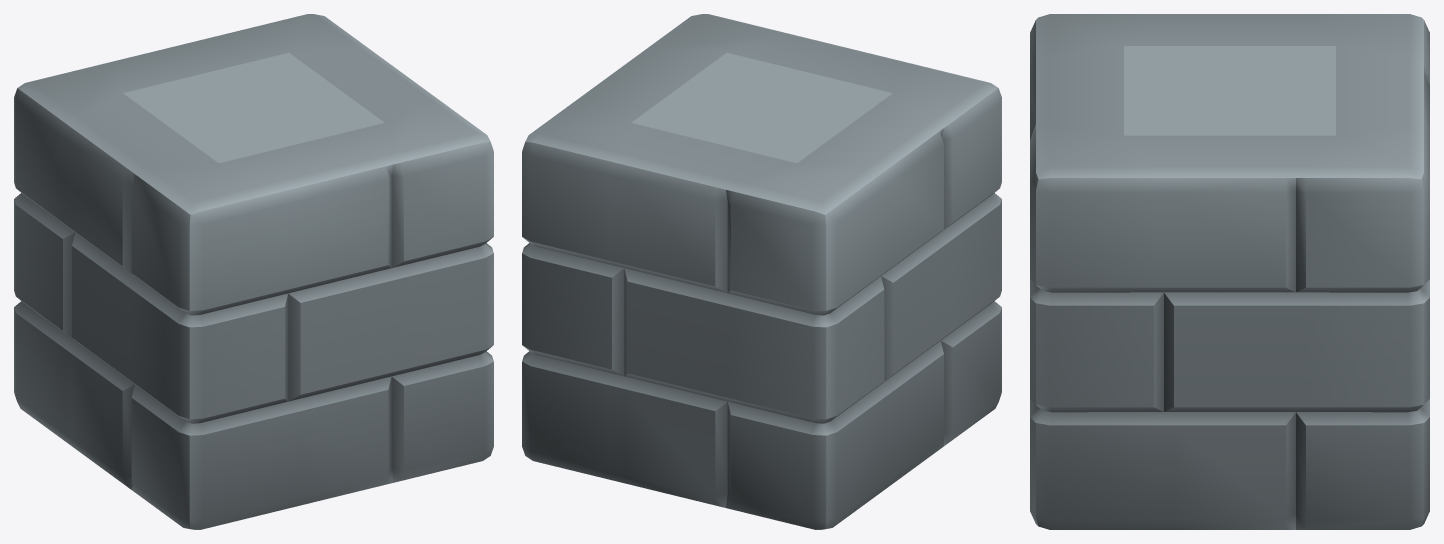
The model's file is bricks_A.glb.
3 renders of one model, left to right at view 1: azimuth 30°, elevation 25°; view 2: azimuth 150°, elevation 25°; view 3: azimuth 270°, elevation 25°, orthographic. The views are drawn at different scales.
Parts seen in each view (by area): view 1: bricks_A; view 2: bricks_A; view 3: bricks_A.
Boxes of the visible parts, box(x1,y1,x2,y2) form: bricks_A: box(14, 14, 493, 529); bricks_A: box(522, 14, 1001, 529); bricks_A: box(1030, 14, 1429, 529).
Bounding box in the file's own units: 2 × 2 × 2.
Materials: 1 (1 with a texture image).
